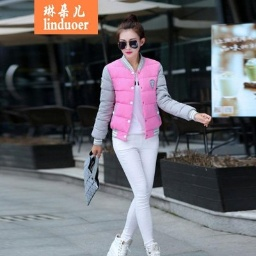face: (108, 20, 153, 67)
